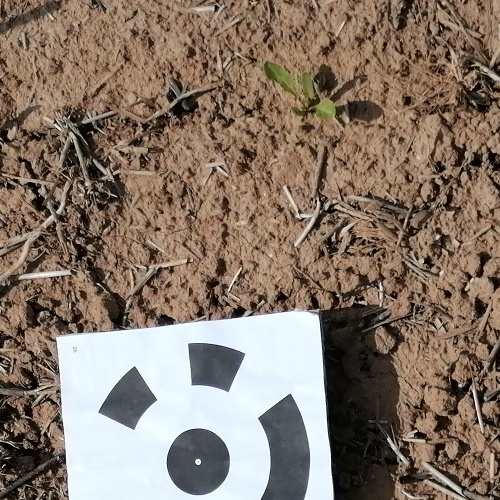beet: (266, 62, 334, 121)
